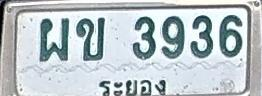3: (132, 16, 156, 60), (190, 14, 213, 58)
6: (219, 14, 242, 57)
9: (161, 14, 184, 58)
A02: (76, 17, 105, 60)
A28: (38, 16, 70, 62)
RYG: (93, 75, 172, 96)
